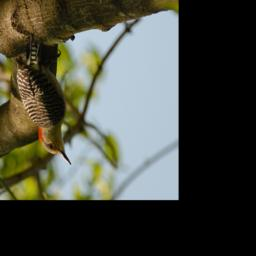Woodpecker: (16, 34, 72, 165)
